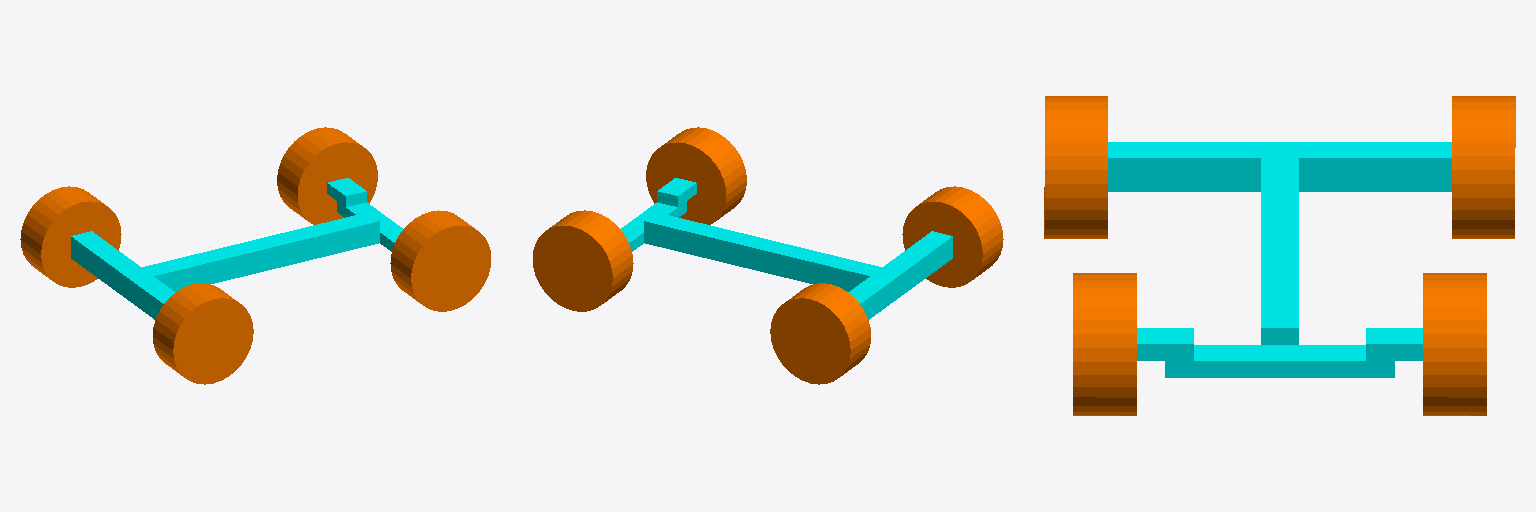
robot.urdf — ackermannCar:
<?xml version="1.0" encoding="utf-8"?>
<!-- =================================================================================== -->
<!-- |    This document was autogenerated by xacro from car.urdf.xacro                 | -->
<!-- |    EDITING THIS FILE BY HAND IS NOT RECOMMENDED                                 | -->
<!-- =================================================================================== -->
<robot name="ackermannCar">
  <link name="base_link"/>
  <link name="rc1_link_0">
    <inertial>
      <mass value="0.333"/>
      <origin rpy="0 0 0" xyz="0 0 0"/>
      <inertia ixx="1.75e-5" ixy="0.0" ixz="0.0" iyy="1.75e-5" iyz="0.0" izz="1.75e-5"/>
    </inertial>
    <visual>
      <origin rpy="0 0 0" xyz="0 0 0"/>
      <geometry>
        <box size="0.428 0.04 0.04"/>
      </geometry>
      <material name="Cyan">
        <color rgba="0 1.0 1.0 1.0"/>
      </material>
    </visual>
    <collision>
      <origin rpy="0 0 0" xyz="0 0 0"/>
      <geometry>
        <box size="0.428 0.04 0.04"/>
      </geometry>
    </collision>
  </link>
  <joint name="rc1_0" type="fixed">
    <origin rpy="0 0 0" xyz="0 0 0"/>
    <parent link="base_link"/>
    <child link="rc1_link_0"/>
  </joint>
  <link name="rc1_link_front">
    <inertial>
      <mass value="0.221778"/>
      <origin rpy="0 0 0" xyz="0 0 0"/>
      <inertia ixx="1.75e-5" ixy="0.0" ixz="0.0" iyy="1.75e-5" iyz="0.0" izz="1.75e-5"/>
    </inertial>
    <visual>
      <origin rpy="0 0 0" xyz="0 0 0"/>
      <geometry>
        <box size="0.04 0.243756 0.02"/>
      </geometry>
      <material name="Cyan">
        <color rgba="0 1.0 1.0 1.0"/>
      </material>
    </visual>
    <collision>
      <origin rpy="0 0 0" xyz="0 0 0"/>
      <geometry>
        <box size="0.04 0.243756 0.02"/>
      </geometry>
    </collision>
  </link>
  <joint name="rc1_f1" type="fixed">
    <origin rpy="0 0 0" xyz="0.234 0 -0.01"/>
    <parent link="rc1_link_0"/>
    <child link="rc1_link_front"/>
  </joint>
  <link name="rc1_link_front_hing_left">
    <inertial>
      <mass value="0.055611"/>
      <origin rpy="0 0 0" xyz="0 0 0"/>
      <inertia ixx="1.75e-5" ixy="0.0" ixz="0.0" iyy="1.75e-5" iyz="0.0" izz="1.75e-5"/>
    </inertial>
    <visual>
      <origin rpy="0 0 0" xyz="0 0 0"/>
      <geometry>
        <box size="0.04 0.061122 0.02"/>
      </geometry>
      <material name="Cyan">
        <color rgba="0 1.0 1.0 1.0"/>
      </material>
    </visual>
    <collision>
      <origin rpy="0 0 0" xyz="0 0 0"/>
      <geometry>
        <box size="0.04 0.061122 0.02"/>
      </geometry>
    </collision>
  </link>
  <joint name="rc1_link_front_hing_left_joint" type="revolute">
    <origin rpy="0 0 0" xyz="0 0.121878 0.02"/>
    <parent link="rc1_link_front"/>
    <child link="rc1_link_front_hing_left"/>
    <axis xyz="0 0 1"/>
    <limit effort="10" lower="-0.534" upper="0.534" velocity="0.1"/>
  </joint>
  <transmission name="rc1_link_front_hing_left_joint_trans">
    <type>transmission_interface/SimpleTransmission</type>
    <actuator name="rc1_link_front_hing_left_joint_motor">
      <mechanicalReduction>1</mechanicalReduction>
      <hardwareInterface>hardware_interface/PositionJointInterface</hardwareInterface>
    </actuator>
    <joint name="rc1_link_front_hing_left_joint">
      <hardwareInterface>hardware_interface/PositionJointInterface</hardwareInterface>
    </joint>
  </transmission>
  <link name="rc1_link_front_hing_right">
    <inertial>
      <mass value="0.055611"/>
      <origin rpy="0 0 0" xyz="0 0 0"/>
      <inertia ixx="1.75e-5" ixy="0.0" ixz="0.0" iyy="1.75e-5" iyz="0.0" izz="1.75e-5"/>
    </inertial>
    <visual>
      <origin rpy="0 0 0" xyz="0 0 0"/>
      <geometry>
        <box size="0.04 0.061122 0.02"/>
      </geometry>
      <material name="Cyan">
        <color rgba="0 1.0 1.0 1.0"/>
      </material>
    </visual>
    <collision>
      <origin rpy="0 0 0" xyz="0 0 0"/>
      <geometry>
        <box size="0.04 0.061122 0.02"/>
      </geometry>
    </collision>
  </link>
  <joint name="rc1_link_front_hing_right_joint" type="revolute">
    <origin rpy="0 0 0" xyz="0 -0.121878 0.02"/>
    <parent link="rc1_link_front"/>
    <child link="rc1_link_front_hing_right"/>
    <axis xyz="0 0 1"/>
    <limit effort="10" lower="-0.534" upper="0.534" velocity="0.1"/>
    <!-- <mimic joint="${car_name}_link_hing_left_joint"/> -->
  </joint>
  <transmission name="rc1_link_front_hing_right_joint_trans">
    <type>transmission_interface/SimpleTransmission</type>
    <actuator name="rc1_link_front_hing_right_joint_motor">
      <mechanicalReduction>1</mechanicalReduction>
      <hardwareInterface>hardware_interface/PositionJointInterface</hardwareInterface>
    </actuator>
    <joint name="rc1_link_front_hing_right_joint">
      <hardwareInterface>hardware_interface/PositionJointInterface</hardwareInterface>
    </joint>
  </transmission>
  <link name="rc1_link_back">
    <inertial>
      <mass value="1.0"/>
      <origin rpy="0 0 0" xyz="0 0 0"/>
      <inertia ixx="1.75e-5" ixy="0.0" ixz="0.0" iyy="1.75e-5" iyz="0.0" izz="1.75e-5"/>
    </inertial>
    <visual>
      <origin rpy="0 0 0" xyz="0 0 0"/>
      <geometry>
        <box size="0.04 0.366 0.04"/>
      </geometry>
      <material name="Cyan">
        <color rgba="0 1.0 1.0 1.0"/>
      </material>
    </visual>
    <collision>
      <origin rpy="0 0 0" xyz="0 0 0"/>
      <geometry>
        <box size="0.04 0.366 0.04"/>
      </geometry>
    </collision>
  </link>
  <joint name="rc1_f2" type="fixed">
    <origin rpy="0 0 0" xyz="-0.234 0 0"/>
    <parent link="rc1_link_0"/>
    <child link="rc1_link_back"/>
  </joint>
  <link name="rc1_fl_wheel">
    <inertial>
      <mass value="0.1"/>
      <origin rpy="1.57 0 0" xyz="0 0 0"/>
      <inertia ixx="1.75e-5" ixy="0.0" ixz="0.0" iyy="1.75e-5" iyz="0.0" izz="1.75e-5"/>
    </inertial>
    <visual>
      <origin rpy="1.57 0 0" xyz="0 0 0"/>
      <geometry>
        <cylinder length="0.0675" radius="0.0762"/>
      </geometry>
      <material name="random">
        <color rgba="1.0 0.5 0.0 1.0"/>
      </material>
    </visual>
    <collision>
      <origin rpy="1.57 0 0" xyz="0 0 0"/>
      <geometry>
        <cylinder length="0.0675" radius="0.0762"/>
      </geometry>
    </collision>
  </link>
  <joint name="rc1_fl_wheel_joint" type="continuous">
    <origin rpy="0.0 0.0 0.0" xyz="0.0 0.0641781 0.0"/>
    <parent link="rc1_link_front_hing_left"/>
    <child link="rc1_fl_wheel"/>
    <axis xyz="0 1 0"/>
    <limit effort="10" velocity="5"/>
  </joint>
  <transmission name="rc1_fl_wheel_joint_trans">
    <type>transmission_interface/SimpleTransmission</type>
    <actuator name="rc1_fl_wheel_joint_motor">
      <mechanicalReduction>1</mechanicalReduction>
      <hardwareInterface>hardware_interface/VelocityJointInterface</hardwareInterface>
    </actuator>
    <joint name="rc1_fl_wheel_joint">
      <hardwareInterface>hardware_interface/VelocityJointInterface</hardwareInterface>
    </joint>
  </transmission>
  <link name="rc1_fr_wheel">
    <inertial>
      <mass value="0.1"/>
      <origin rpy="1.57 0 0" xyz="0 0 0"/>
      <inertia ixx="1.75e-5" ixy="0.0" ixz="0.0" iyy="1.75e-5" iyz="0.0" izz="1.75e-5"/>
    </inertial>
    <visual>
      <origin rpy="1.57 0 0" xyz="0 0 0"/>
      <geometry>
        <cylinder length="0.0675" radius="0.0762"/>
      </geometry>
      <material name="random">
        <color rgba="1.0 0.5 0.0 1.0"/>
      </material>
    </visual>
    <collision>
      <origin rpy="1.57 0 0" xyz="0 0 0"/>
      <geometry>
        <cylinder length="0.0675" radius="0.0762"/>
      </geometry>
    </collision>
  </link>
  <joint name="rc1_fr_wheel_joint" type="continuous">
    <origin rpy="0.0 0.0 0.0" xyz="0.0 -0.0641781 0.0"/>
    <parent link="rc1_link_front_hing_right"/>
    <child link="rc1_fr_wheel"/>
    <axis xyz="0 1 0"/>
    <limit effort="10" velocity="5"/>
  </joint>
  <transmission name="rc1_fr_wheel_joint_trans">
    <type>transmission_interface/SimpleTransmission</type>
    <actuator name="rc1_fr_wheel_joint_motor">
      <mechanicalReduction>1</mechanicalReduction>
      <hardwareInterface>hardware_interface/VelocityJointInterface</hardwareInterface>
    </actuator>
    <joint name="rc1_fr_wheel_joint">
      <hardwareInterface>hardware_interface/VelocityJointInterface</hardwareInterface>
    </joint>
  </transmission>
  <link name="rc1_bl_wheel">
    <inertial>
      <mass value="0.1"/>
      <origin rpy="1.57 0 0" xyz="0 0 0"/>
      <inertia ixx="1.75e-5" ixy="0.0" ixz="0.0" iyy="1.75e-5" iyz="0.0" izz="1.75e-5"/>
    </inertial>
    <visual>
      <origin rpy="1.57 0 0" xyz="0 0 0"/>
      <geometry>
        <cylinder length="0.0675" radius="0.0762"/>
      </geometry>
      <material name="random">
        <color rgba="1.0 0.5 0.0 1.0"/>
      </material>
    </visual>
    <collision>
      <origin rpy="1.57 0 0" xyz="0 0 0"/>
      <geometry>
        <cylinder length="0.0675" radius="0.0762"/>
      </geometry>
    </collision>
  </link>
  <joint name="rc1_bl_wheel_joint" type="continuous">
    <origin rpy="0.0 0.0 0.0" xyz="0.0 0.21675 0.0"/>
    <parent link="rc1_link_back"/>
    <child link="rc1_bl_wheel"/>
    <axis xyz="0 1 0"/>
    <limit effort="10" velocity="5"/>
  </joint>
  <transmission name="rc1_bl_wheel_joint_trans">
    <type>transmission_interface/SimpleTransmission</type>
    <actuator name="rc1_bl_wheel_joint_motor">
      <mechanicalReduction>1</mechanicalReduction>
      <hardwareInterface>hardware_interface/VelocityJointInterface</hardwareInterface>
    </actuator>
    <joint name="rc1_bl_wheel_joint">
      <hardwareInterface>hardware_interface/VelocityJointInterface</hardwareInterface>
    </joint>
  </transmission>
  <link name="rc1_br_wheel">
    <inertial>
      <mass value="0.1"/>
      <origin rpy="1.57 0 0" xyz="0 0 0"/>
      <inertia ixx="1.75e-5" ixy="0.0" ixz="0.0" iyy="1.75e-5" iyz="0.0" izz="1.75e-5"/>
    </inertial>
    <visual>
      <origin rpy="1.57 0 0" xyz="0 0 0"/>
      <geometry>
        <cylinder length="0.0675" radius="0.0762"/>
      </geometry>
      <material name="random">
        <color rgba="1.0 0.5 0.0 1.0"/>
      </material>
    </visual>
    <collision>
      <origin rpy="1.57 0 0" xyz="0 0 0"/>
      <geometry>
        <cylinder length="0.0675" radius="0.0762"/>
      </geometry>
    </collision>
  </link>
  <joint name="rc1_br_wheel_joint" type="continuous">
    <origin rpy="0.0 0.0 0.0" xyz="0.0 -0.21675 0.0"/>
    <parent link="rc1_link_back"/>
    <child link="rc1_br_wheel"/>
    <axis xyz="0 1 0"/>
    <limit effort="10" velocity="5"/>
  </joint>
  <transmission name="rc1_br_wheel_joint_trans">
    <type>transmission_interface/SimpleTransmission</type>
    <actuator name="rc1_br_wheel_joint_motor">
      <mechanicalReduction>1</mechanicalReduction>
      <hardwareInterface>hardware_interface/VelocityJointInterface</hardwareInterface>
    </actuator>
    <joint name="rc1_br_wheel_joint">
      <hardwareInterface>hardware_interface/VelocityJointInterface</hardwareInterface>
    </joint>
  </transmission>
</robot>

--- Facts derived from the render (not from the file) ---
Views: 3 orthographic renders of the robot side by side, from view 1: azimuth 30°, elevation 25°; view 2: azimuth 150°, elevation 25°; view 3: azimuth 270°, elevation 25°.
Robot: ackermannCar — 10 links, 9 joints (2 revolute, 4 continuous, 3 fixed); root link base_link; default pose: all joints at 0.
Visible links, largest first — view 1: rc1_br_wheel, rc1_fr_wheel, rc1_link_0, rc1_fl_wheel, rc1_bl_wheel, rc1_link_back, rc1_link_front, rc1_link_front_hing_left; view 2: rc1_bl_wheel, rc1_fl_wheel, rc1_link_0, rc1_fr_wheel, rc1_br_wheel, rc1_link_back, rc1_link_front, rc1_link_front_hing_right; view 3: rc1_link_back, rc1_fl_wheel, rc1_fr_wheel, rc1_bl_wheel, rc1_br_wheel, rc1_link_0, rc1_link_front, rc1_link_front_hing_left, rc1_link_front_hing_right.
Link boxes in pixels (x1=…): rc1_br_wheel: x1=153, y1=283, x2=253, y2=384; rc1_fr_wheel: x1=390, y1=210, x2=490, y2=311; rc1_link_0: x1=142, y1=212, x2=379, y2=291; rc1_fl_wheel: x1=277, y1=127, x2=377, y2=224; rc1_bl_wheel: x1=20, y1=186, x2=121, y2=287; rc1_link_back: x1=71, y1=231, x2=175, y2=319; rc1_link_front: x1=337, y1=201, x2=402, y2=251; rc1_link_front_hing_left: x1=327, y1=178, x2=366, y2=206; rc1_bl_wheel: x1=770, y1=283, x2=870, y2=384; rc1_fl_wheel: x1=533, y1=210, x2=633, y2=311; rc1_link_0: x1=644, y1=212, x2=881, y2=291; rc1_fr_wheel: x1=646, y1=127, x2=746, y2=224; rc1_br_wheel: x1=902, y1=186, x2=1003, y2=287; rc1_link_back: x1=848, y1=231, x2=952, y2=319; rc1_link_front: x1=621, y1=201, x2=686, y2=251; rc1_link_front_hing_right: x1=657, y1=178, x2=696, y2=206; rc1_link_back: x1=1108, y1=142, x2=1451, y2=191; rc1_fl_wheel: x1=1423, y1=273, x2=1486, y2=415; rc1_fr_wheel: x1=1073, y1=273, x2=1136, y2=415; rc1_bl_wheel: x1=1452, y1=96, x2=1515, y2=238; rc1_br_wheel: x1=1044, y1=96, x2=1107, y2=238; rc1_link_0: x1=1261, y1=158, x2=1298, y2=344; rc1_link_front: x1=1165, y1=345, x2=1394, y2=377; rc1_link_front_hing_left: x1=1366, y1=328, x2=1422, y2=360; rc1_link_front_hing_right: x1=1137, y1=328, x2=1193, y2=360.
Size in the robot's own frame: 0.6204 by 0.5011 by 0.1625 metres.
Geometry: primitives only (box / cylinder / sphere), no mesh files.
